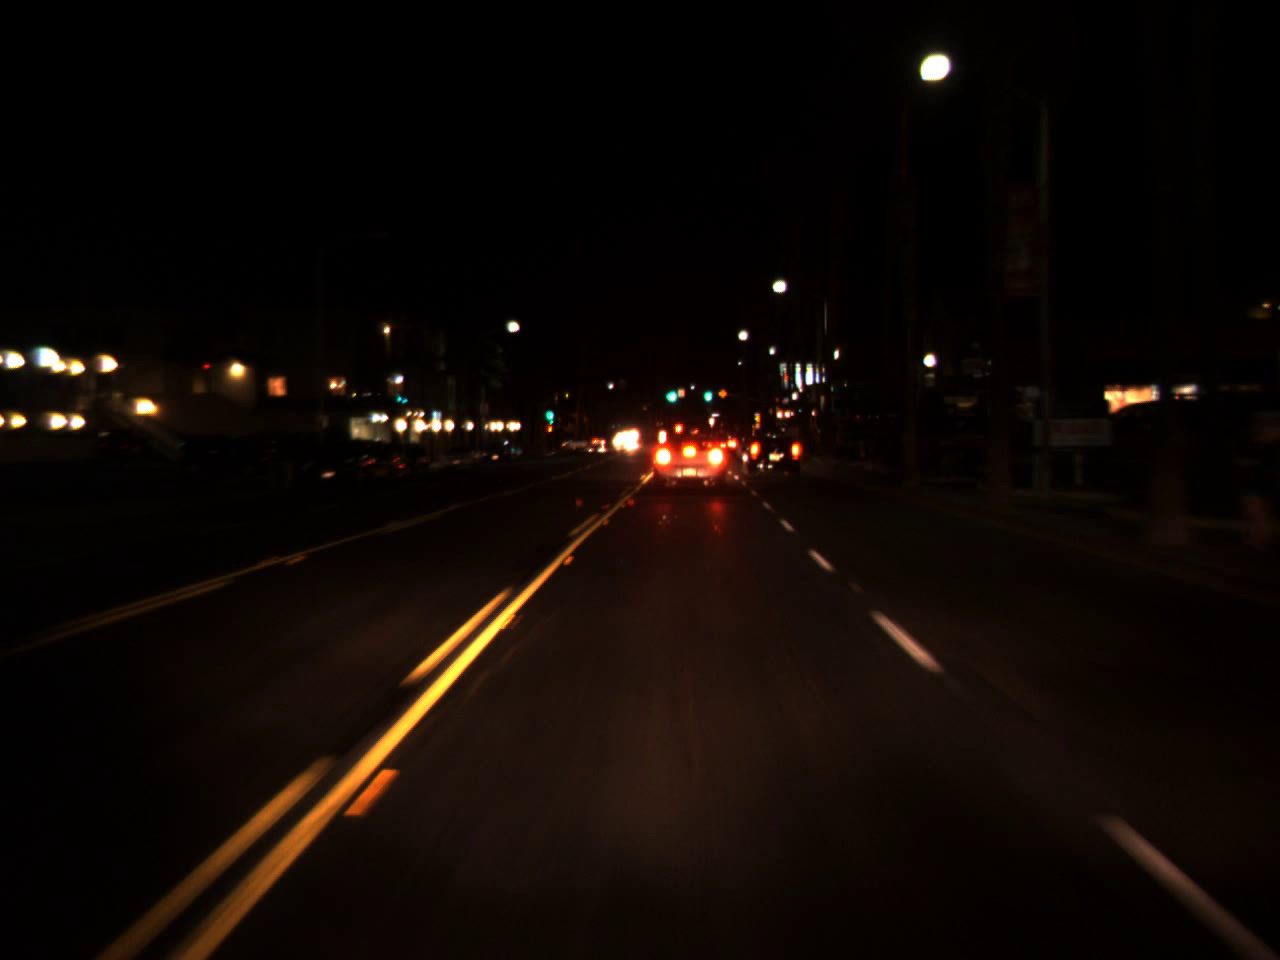go: (663, 377, 679, 407), (700, 381, 714, 402), (544, 400, 554, 424)
